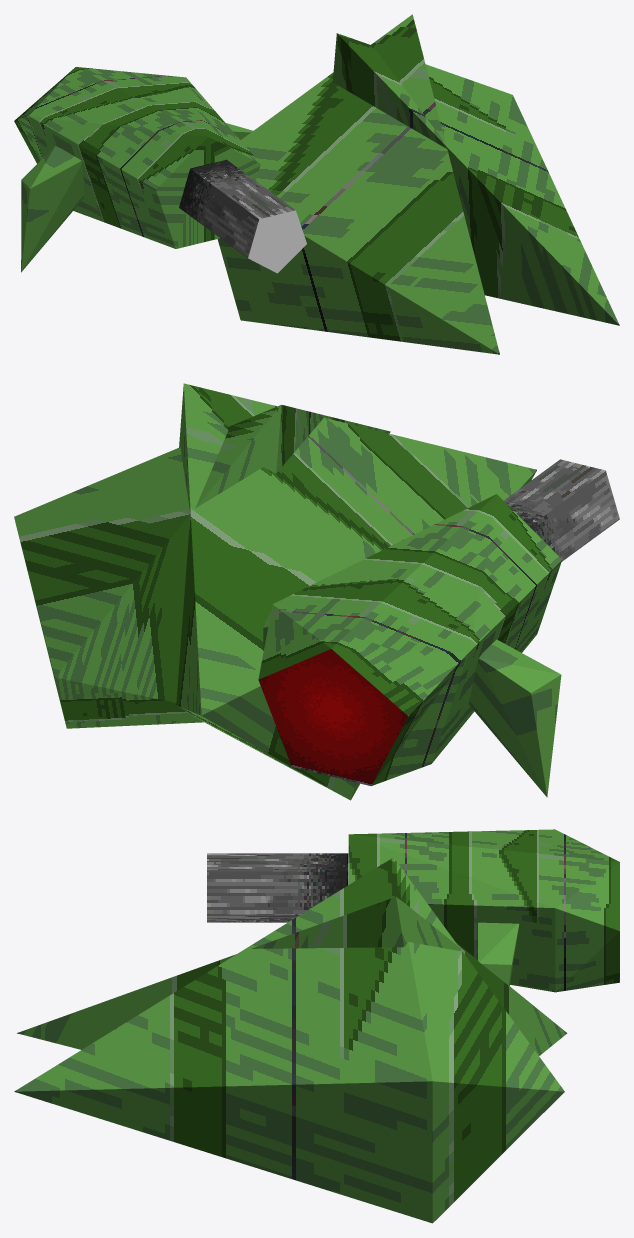
Rendered from model_021_robot_noname.glb.
The picture shows the model from 3 angles, top to bottom: view 1: azimuth 30°, elevation 25°; view 2: azimuth 150°, elevation 25°; view 3: azimuth 270°, elevation 25°; orthographic projection. The views are drawn at different scales.
Parts seen in each view (by area): view 1: model_021; view 2: model_021; view 3: model_021.
Part boxes in pixels (x1=…): model_021: x1=14, y1=14, x2=619, y2=354; model_021: x1=14, y1=383, x2=619, y2=800; model_021: x1=14, y1=829, x2=619, y2=1223.
Size of the model in its own units: 6.19 by 3.64 by 6.88.
4 materials, 3 textured.
